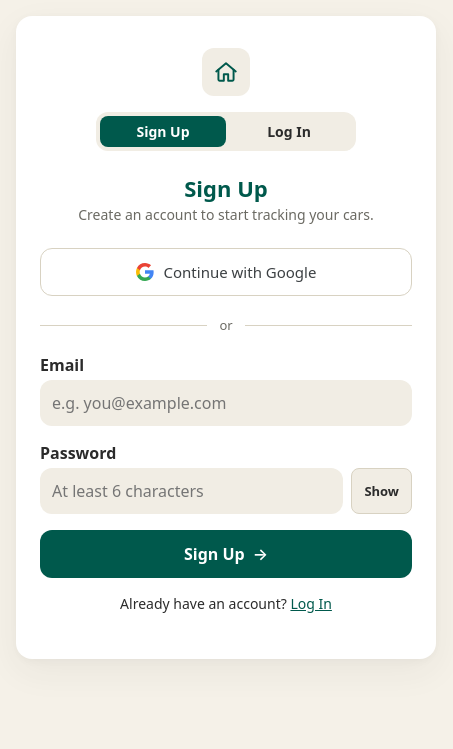
AuthPage — Sign Up › shows a clear error on duplicate email signup
Type "existing@example.com" into the field labelled "Email" at coordinates (226, 403), box x1=40 y1=380 x2=412 y2=426
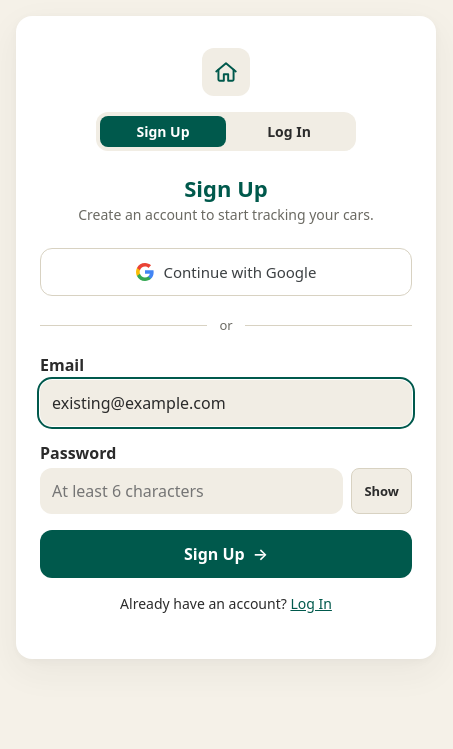
Type "a-strong-password" into the password field labelled "Password" at coordinates (192, 491), box x1=40 y1=468 x2=343 y2=514
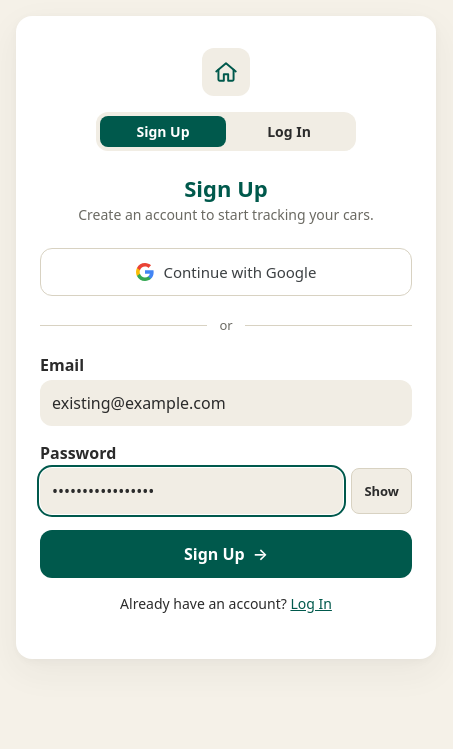
Click the button "Sign Up →" at coordinates (226, 554), box x1=40 y1=530 x2=412 y2=578
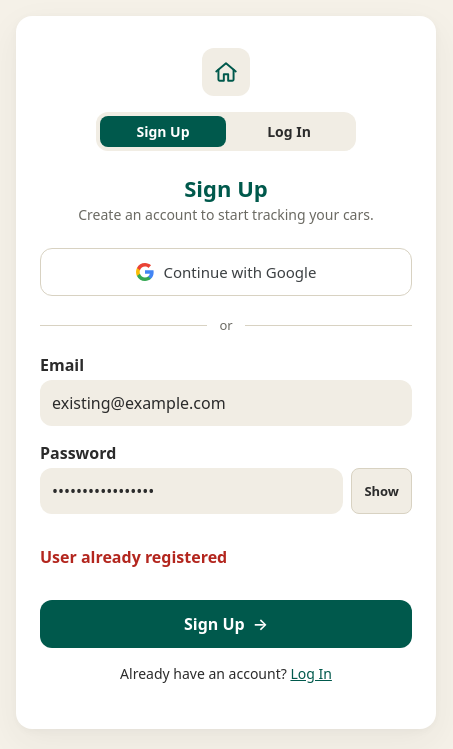
Expected: the message reads "User already registered", x1=40 y1=546 x2=227 y2=568
